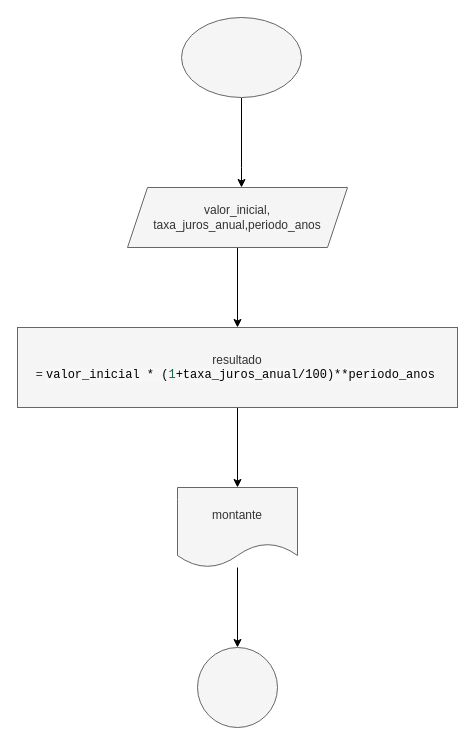
This 475x745 diagram has some shape labels left out. Each missing label, with the box of its shape:
fim: (196, 646, 278, 728)
inicio: (180, 16, 302, 98)
